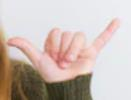clockwise: (3, 15, 121, 86)
